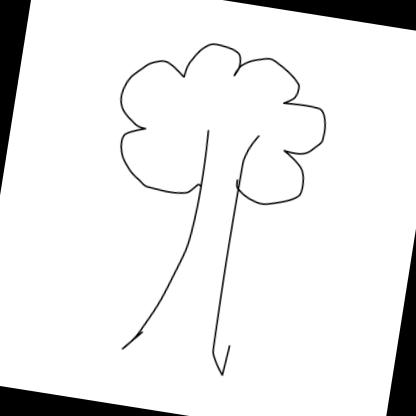crown_cloud: (107, 30, 335, 213)
trunk_straight: (139, 202, 237, 340)
